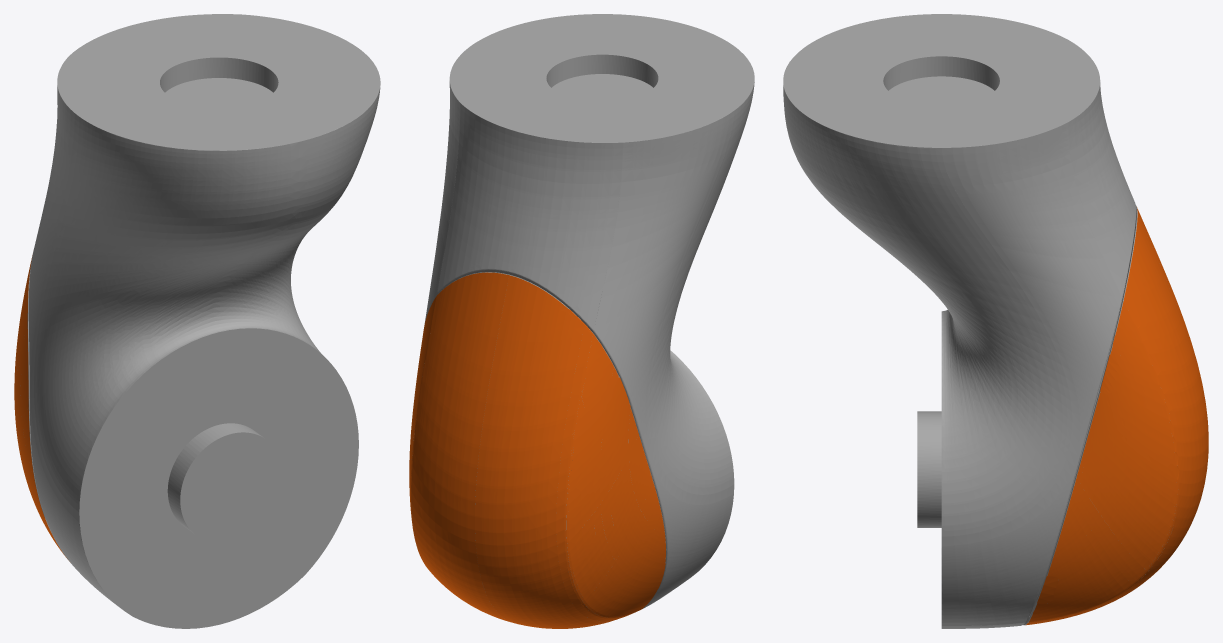
3 renders of one model, left to right at view 1: azimuth 30°, elevation 25°; view 2: azimuth 150°, elevation 25°; view 3: azimuth 270°, elevation 25°, orthographic. The views are drawn at different scales.
Parts seen in each view (by area): view 1: ply_link2; view 2: ply_link2; view 3: ply_link2.
Part boxes in pixels (x1,y1,x2,y2): ply_link2: (14,14,380,628); ply_link2: (409,14,754,628); ply_link2: (783,14,1208,628).
Size of the model in its own units: 136 by 252 by 183.
